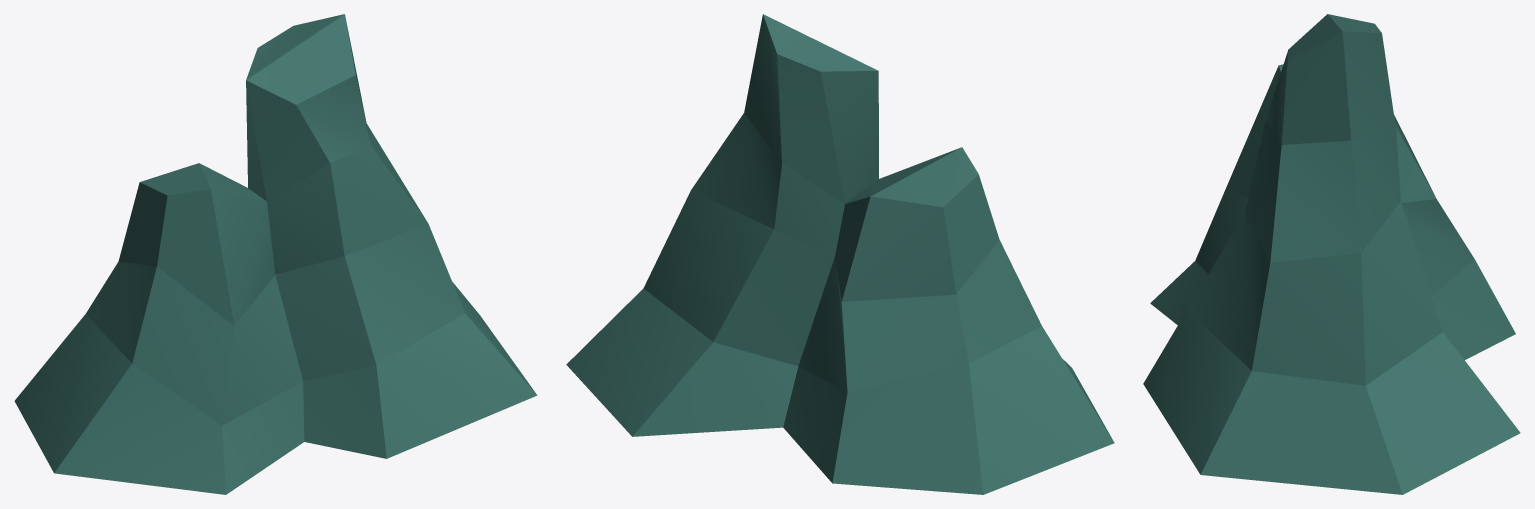
Rendered from coldBig_icebergA.FBX.
3 views of the same model, side by side, from view 1: azimuth 30°, elevation 25°; view 2: azimuth 150°, elevation 25°; view 3: azimuth 270°, elevation 25° (orthographic). The views are drawn at different scales.
Parts seen in each view (by area): view 1: coldBig_icebergA; view 2: coldBig_icebergA; view 3: coldBig_icebergA.
Boxes of the visible parts, box(x1,y1,x2,y2) form: coldBig_icebergA: box(14, 14, 537, 494); coldBig_icebergA: box(566, 14, 1114, 494); coldBig_icebergA: box(1143, 14, 1520, 494).
Bounding box in the file's own units: 568 × 408 × 368.
